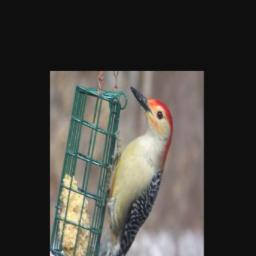Woodpecker: (99, 86, 172, 256)
